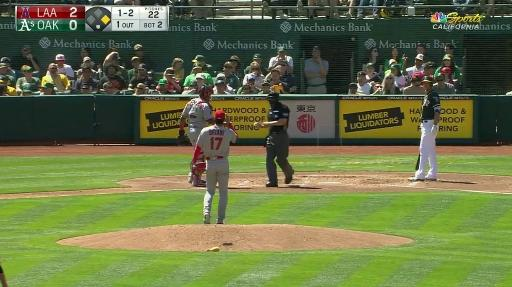pitcher: (189, 110, 238, 223)
